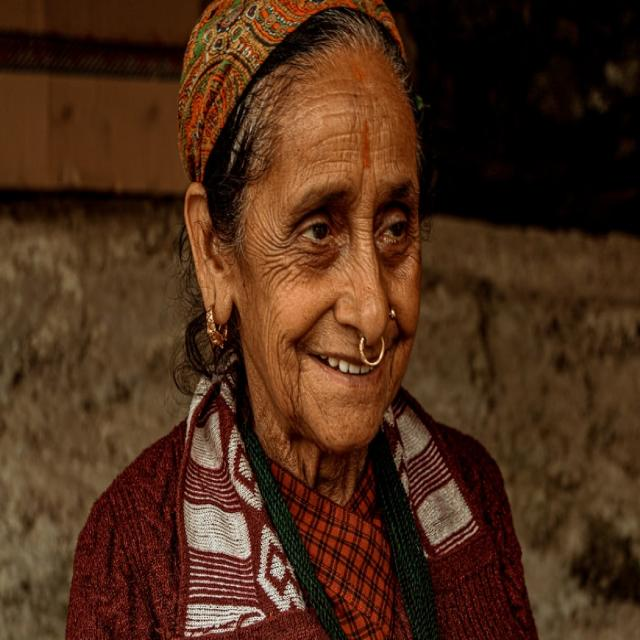Wrinkles: (267, 255, 304, 301), (278, 330, 295, 411), (254, 206, 277, 244), (251, 244, 297, 257), (266, 215, 288, 241), (312, 134, 346, 147), (272, 273, 289, 297), (268, 309, 274, 376), (258, 237, 282, 252), (261, 264, 284, 278), (264, 236, 289, 248), (303, 104, 327, 115), (287, 271, 304, 286), (303, 158, 324, 167), (374, 144, 398, 151), (271, 313, 280, 331), (259, 258, 281, 265), (289, 115, 303, 123), (314, 161, 336, 166), (361, 160, 364, 194), (315, 94, 330, 98), (323, 113, 339, 116), (374, 154, 376, 178), (330, 92, 353, 94), (376, 180, 378, 194), (338, 149, 360, 150), (353, 93, 363, 95), (372, 131, 382, 133), (346, 134, 362, 135), (336, 161, 351, 162), (309, 97, 315, 97)
